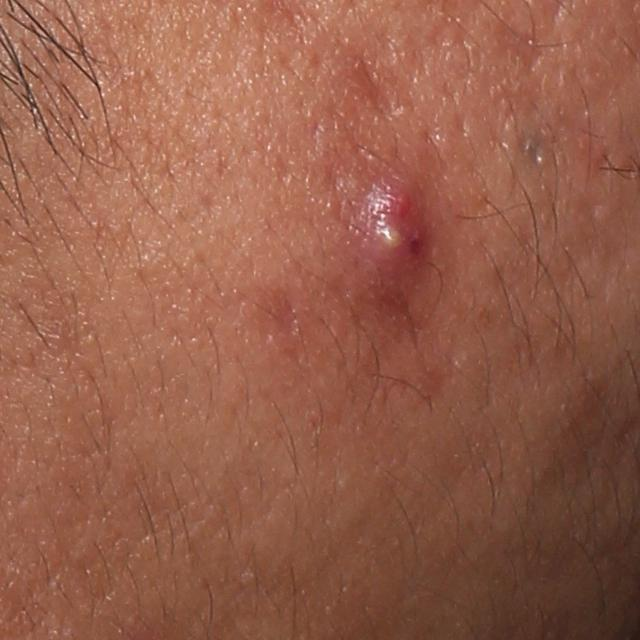atrophic_scar: (346, 50, 403, 122), (485, 18, 546, 72), (257, 287, 300, 340)
pustule: (348, 163, 425, 318)
